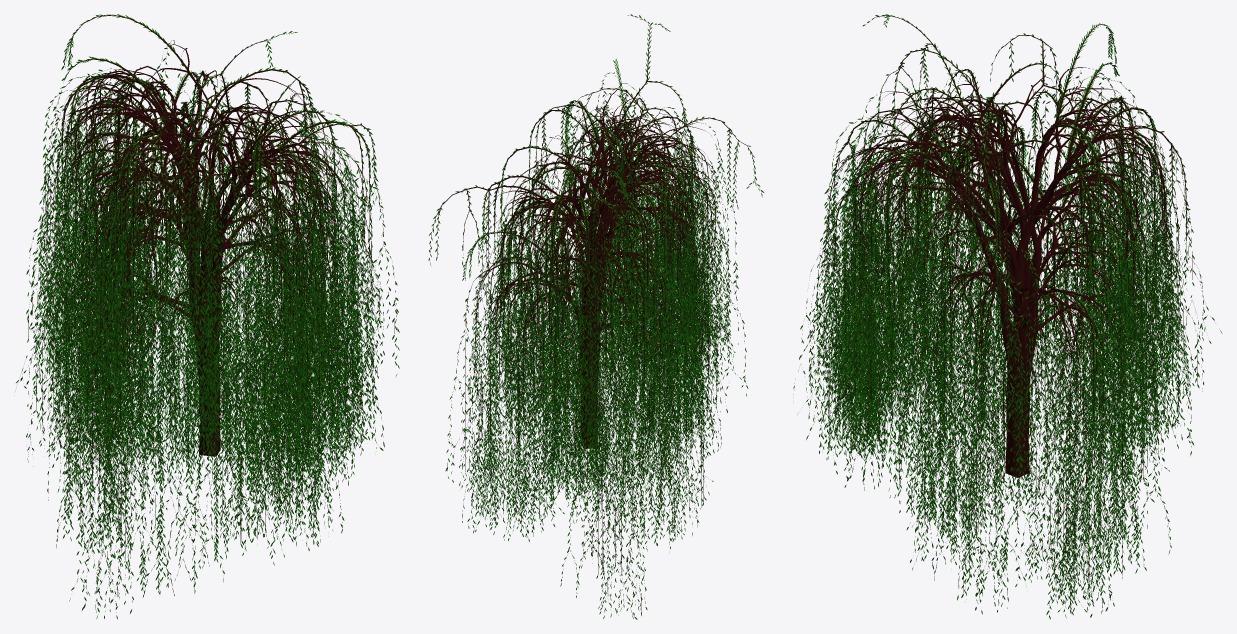
Rendered from willow-transformed.glb.
3 views of the same model, side by side, from view 1: azimuth 30°, elevation 25°; view 2: azimuth 150°, elevation 25°; view 3: azimuth 270°, elevation 25° (orthographic). The views are drawn at different scales.
Parts seen in each view (by area): view 1: leaves_Malzeme.009_0, tree_Malzeme.010_0; view 2: leaves_Malzeme.009_0, tree_Malzeme.010_0; view 3: leaves_Malzeme.009_0, tree_Malzeme.010_0.
Part boxes in pixels (x1,y1,x2,y2): leaves_Malzeme.009_0: [16, 14, 399, 619]; tree_Malzeme.010_0: [21, 14, 397, 612]; leaves_Malzeme.009_0: [428, 14, 763, 619]; tree_Malzeme.010_0: [430, 17, 757, 615]; leaves_Malzeme.009_0: [793, 14, 1222, 619]; tree_Malzeme.010_0: [793, 15, 1207, 611].
Size of the model in its own units: 16.28 by 30.96 by 19.44.
